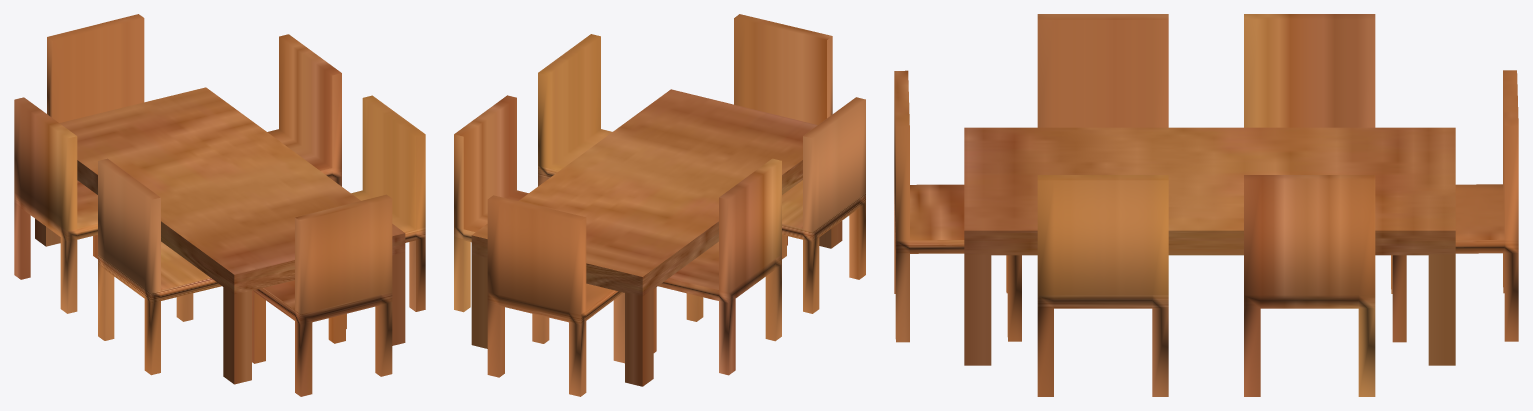
Rendered from table_and_chair.glb.
3 renders of one model, left to right at view 1: azimuth 30°, elevation 25°; view 2: azimuth 150°, elevation 25°; view 3: azimuth 270°, elevation 25°, orthographic. The views are drawn at different scales.
Visible parts, largest first — view 1: Table_0, Chair 3_5, Chair 1_2, Chair 1.001_4, Chair 3.003_6, Chair 2_1, Chair 2.001_3; view 2: Table_0, Chair 3.003_6, Chair 1.001_4, Chair 1_2, Chair 3_5, Chair 2.001_3, Chair 2_1; view 3: Table_0, Chair 2.001_3, Chair 2_1, Chair 1_2, Chair 1.001_4, Chair 3_5, Chair 3.003_6.
Boxes of the visible parts, bbox=[...] form: Table_0: bbox=[35, 87, 405, 384]; Chair 3_5: bbox=[252, 194, 392, 396]; Chair 1_2: bbox=[98, 158, 221, 375]; Chair 1.001_4: bbox=[14, 97, 97, 313]; Chair 3.003_6: bbox=[47, 14, 144, 122]; Chair 2_1: bbox=[346, 95, 425, 328]; Chair 2.001_3: bbox=[267, 34, 341, 186]; Table_0: bbox=[471, 89, 842, 386]; Chair 3.003_6: bbox=[487, 195, 624, 396]; Chair 1.001_4: bbox=[653, 158, 781, 375]; Chair 1_2: bbox=[782, 97, 865, 313]; Chair 3_5: bbox=[734, 14, 832, 245]; Chair 2.001_3: bbox=[454, 95, 528, 312]; Chair 2_1: bbox=[538, 34, 612, 186]; Table_0: bbox=[964, 127, 1455, 365]; Chair 2.001_3: bbox=[1244, 175, 1375, 396]; Chair 2_1: bbox=[1037, 175, 1168, 396]; Chair 1_2: bbox=[1037, 14, 1168, 127]; Chair 1.001_4: bbox=[1244, 14, 1375, 127]; Chair 3_5: bbox=[894, 70, 1021, 342]; Chair 3.003_6: bbox=[1391, 70, 1518, 342].
Size of the model in its own units: 3.21 by 1.98 by 5.13.
Materials: 2 (2 with a texture image).
